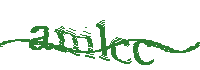a: (30, 24, 51, 52)
c: (110, 36, 133, 67), (132, 39, 157, 67)
l: (96, 18, 111, 63)
m: (53, 24, 95, 59)
